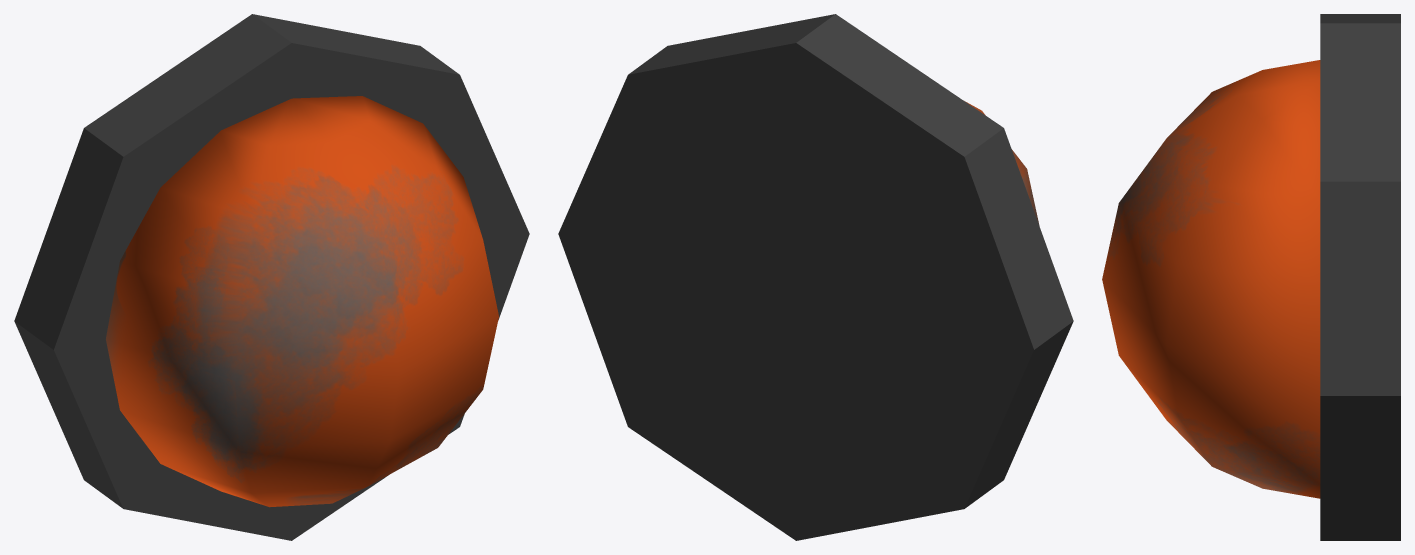
Rendered from Button.fbx.
The picture shows the model from 3 angles, left to right: view 1: azimuth 30°, elevation 25°; view 2: azimuth 150°, elevation 25°; view 3: azimuth 270°, elevation 25°; orthographic projection. The views are drawn at different scales.
Parts seen in each view (by area): view 1: Low Poly, Cylinder; view 2: Cylinder; view 3: Low Poly, Cylinder.
Part boxes in pixels (x1,y1,x2,y2): Low Poly: [106, 96, 498, 507]; Cylinder: [14, 14, 529, 540]; Cylinder: [558, 14, 1073, 540]; Low Poly: [1102, 60, 1320, 498]; Cylinder: [1320, 14, 1400, 540].
Size of the model in its own units: 123 by 123 by 65.78.
